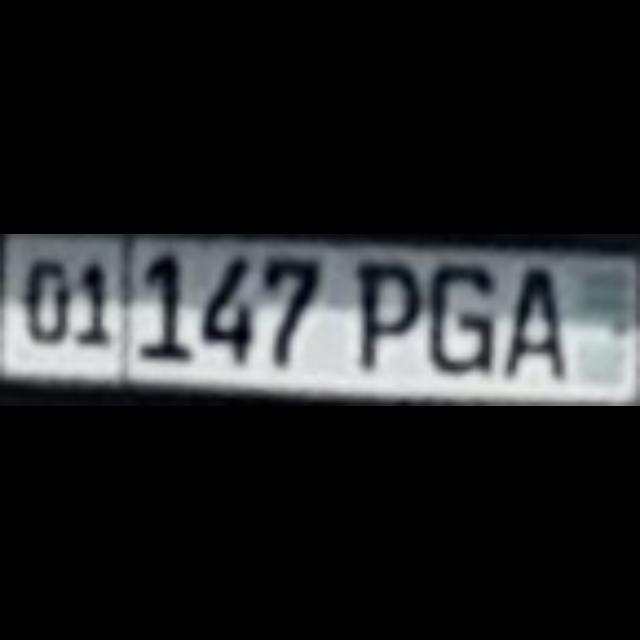0: (22, 252, 66, 340)
1: (133, 247, 190, 357), (70, 256, 110, 340)
4: (198, 252, 248, 362)
7: (256, 252, 318, 362)
A: (512, 264, 556, 358)
G: (424, 260, 490, 366)
P: (353, 260, 419, 362)
